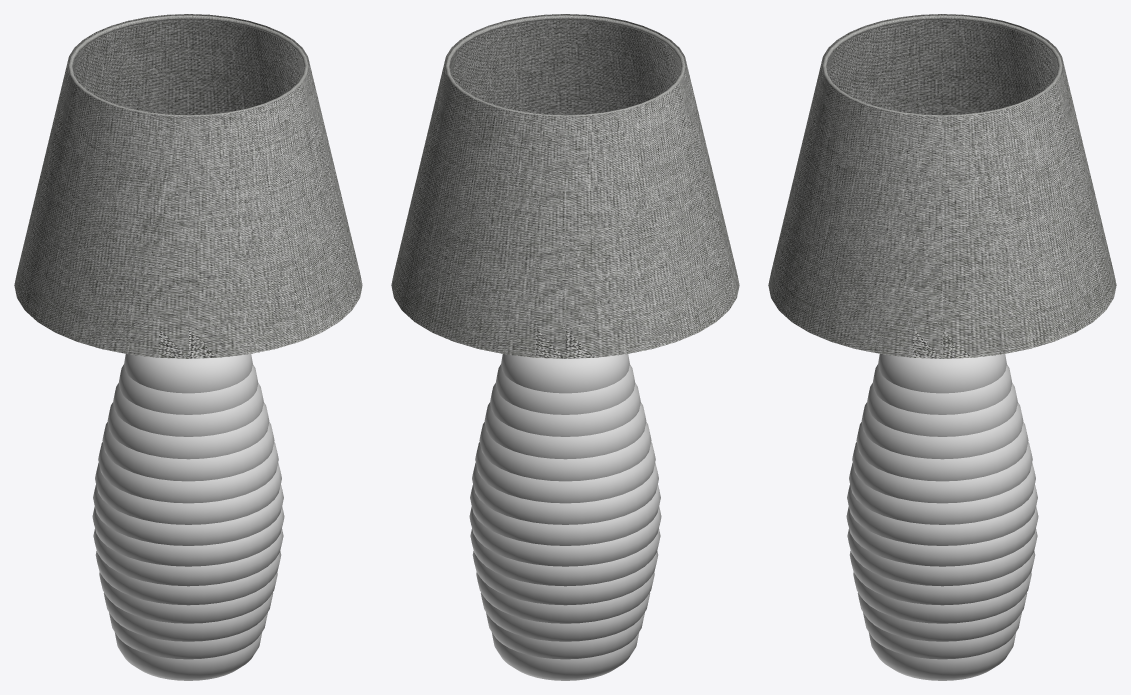
Rendered from lampara1.obj.
3 views of the same model, side by side, from view 1: azimuth 30°, elevation 25°; view 2: azimuth 150°, elevation 25°; view 3: azimuth 270°, elevation 25° (orthographic).
Visible parts, largest first — view 1: Şapka, Polyester, Ust_Tel; view 2: Şapka, Polyester, Ust_Tel; view 3: Şapka, Polyester, Ust_Tel.
Part boxes in pixels (box(x1,y1,x2,y2)): Şapka: box(14, 14, 362, 358); Polyester: box(92, 354, 284, 680); Ust_Tel: box(68, 15, 308, 116); Şapka: box(391, 14, 739, 358); Polyester: box(469, 354, 661, 680); Ust_Tel: box(445, 15, 685, 116); Şapka: box(768, 14, 1116, 358); Polyester: box(846, 354, 1038, 680); Ust_Tel: box(822, 15, 1062, 116).
Bounding box in the file's own units: 33 × 62.15 × 33.
